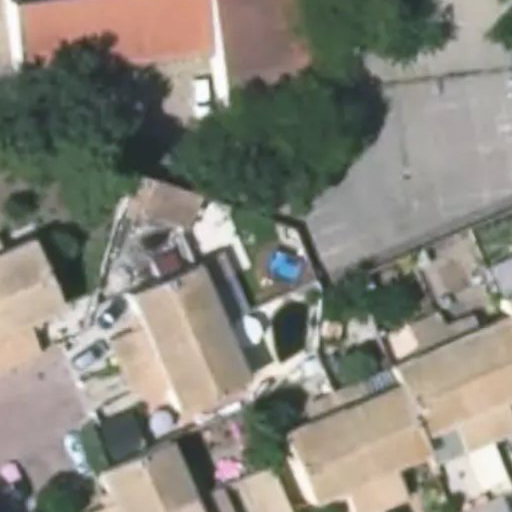pool: (224, 222, 285, 244)
